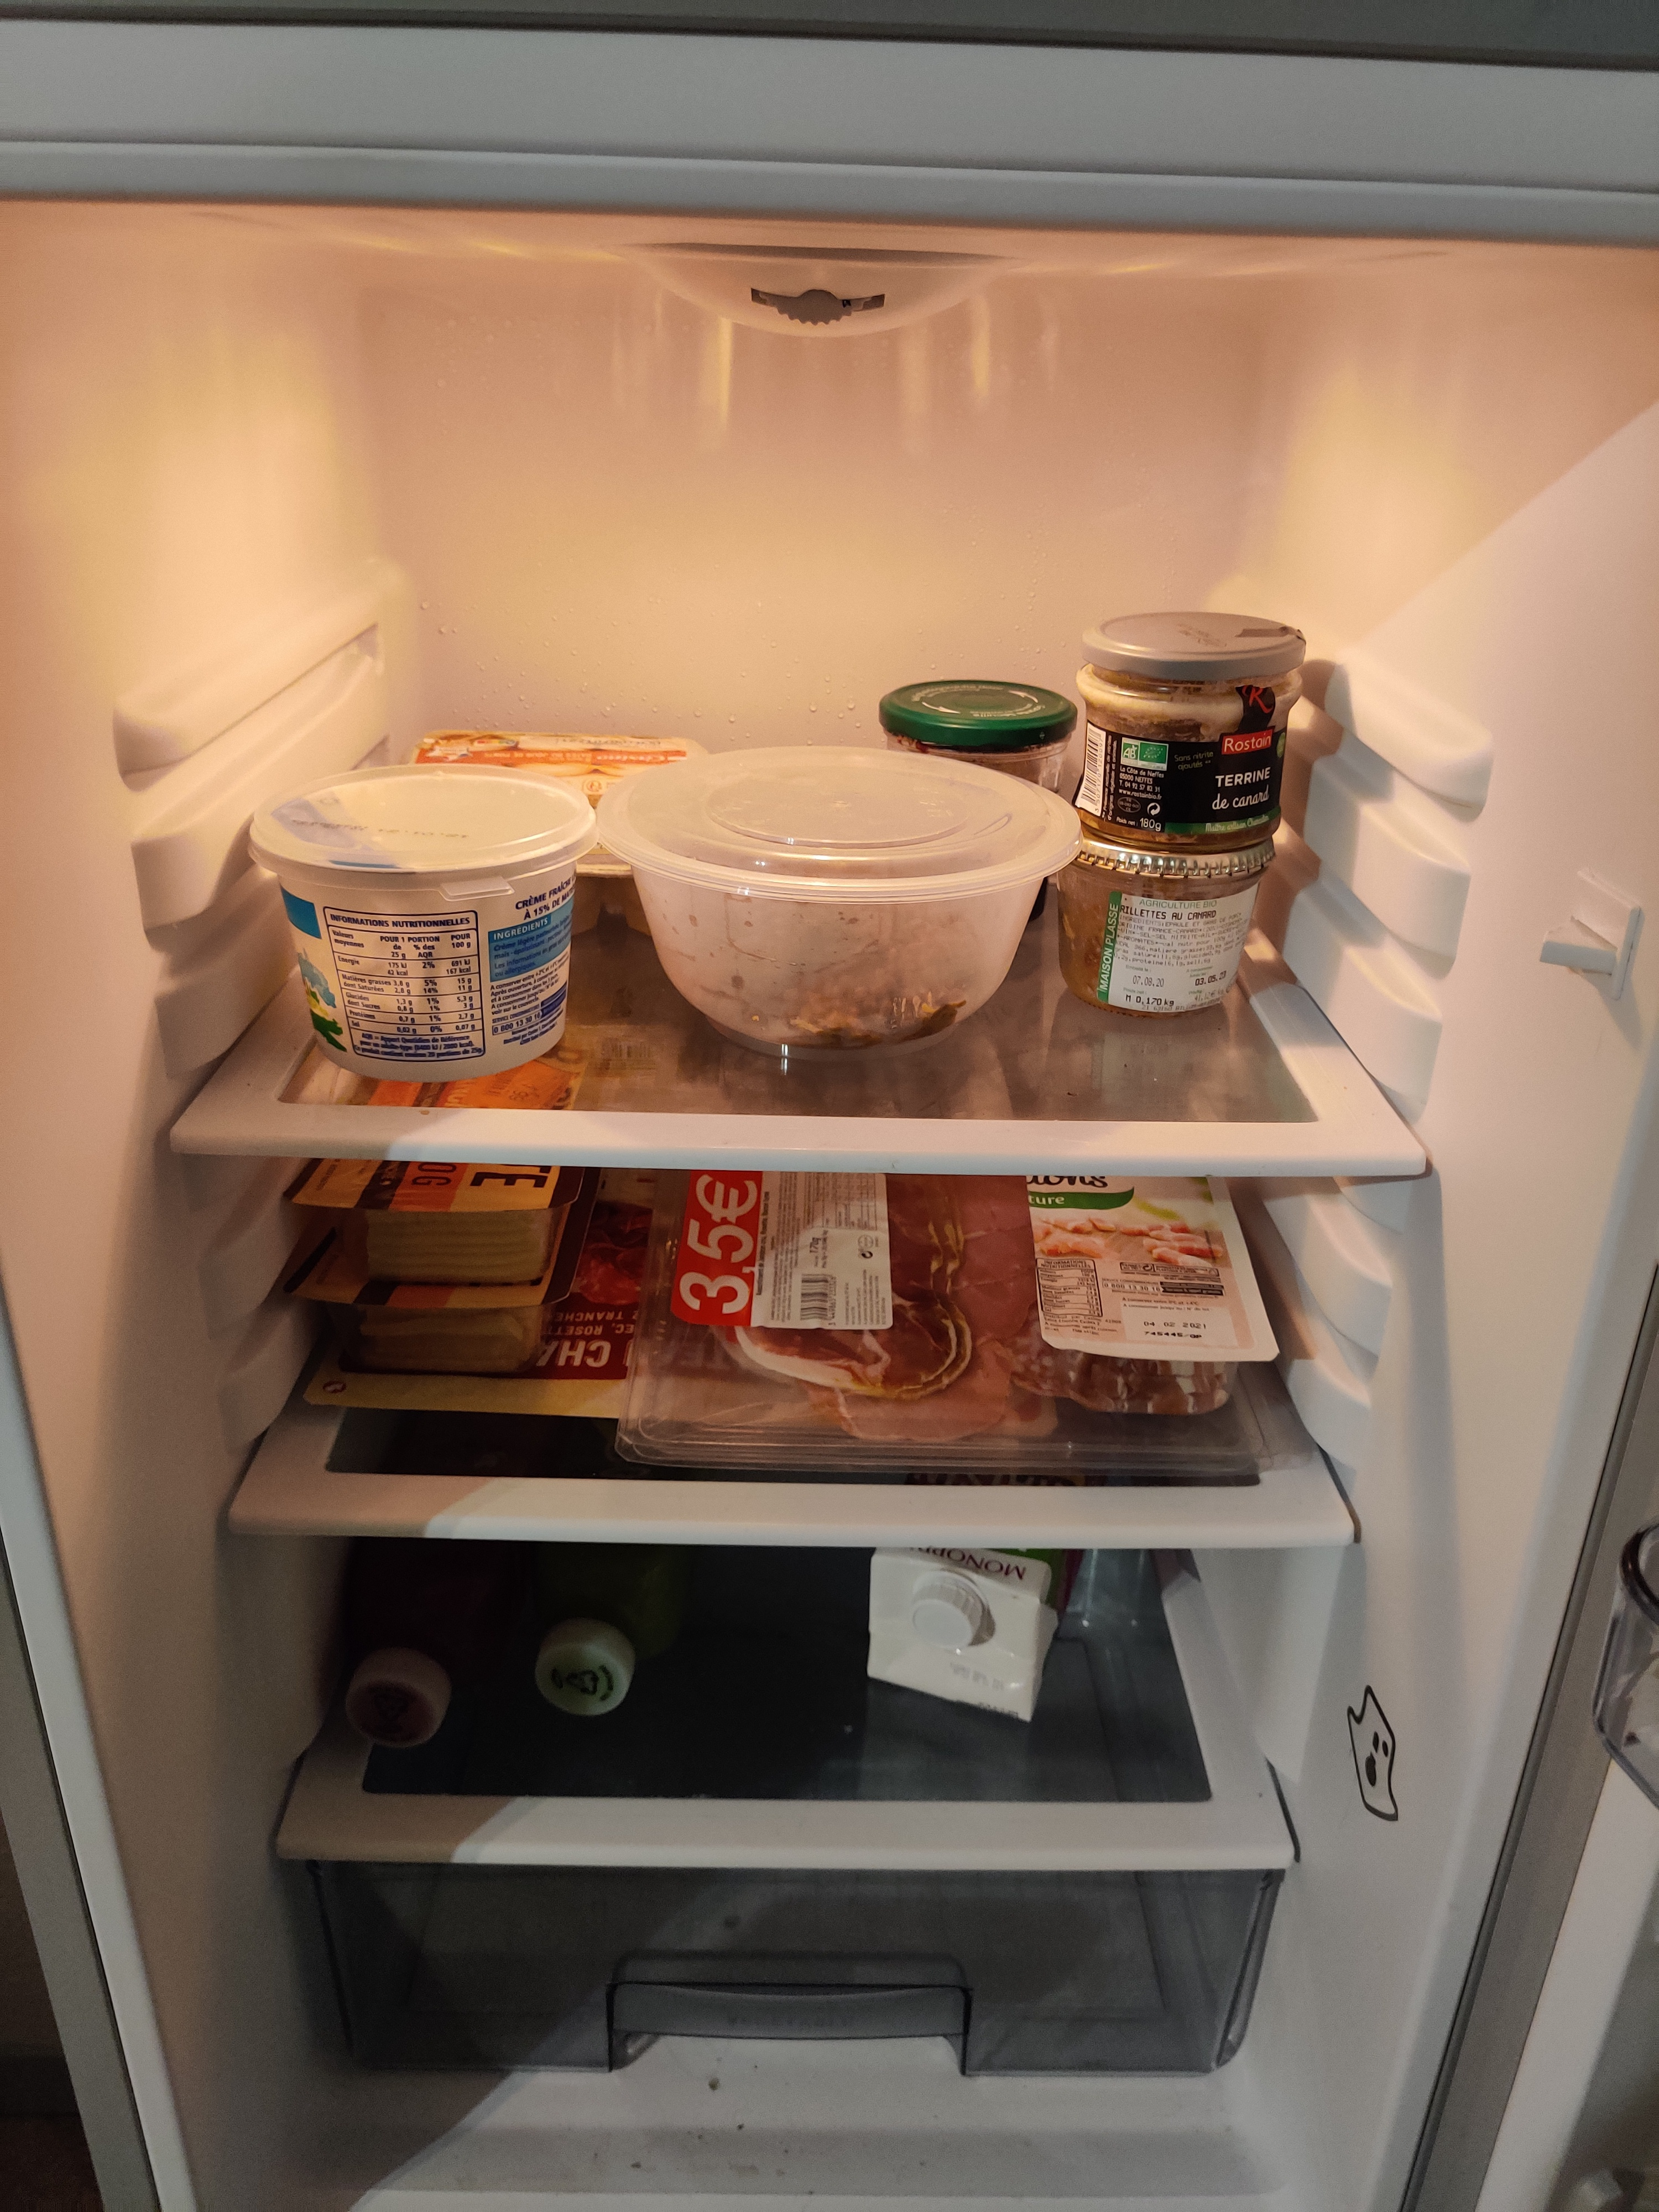bottle: (856, 1519, 1072, 1724), (532, 1517, 704, 1733), (338, 1533, 518, 1728)
